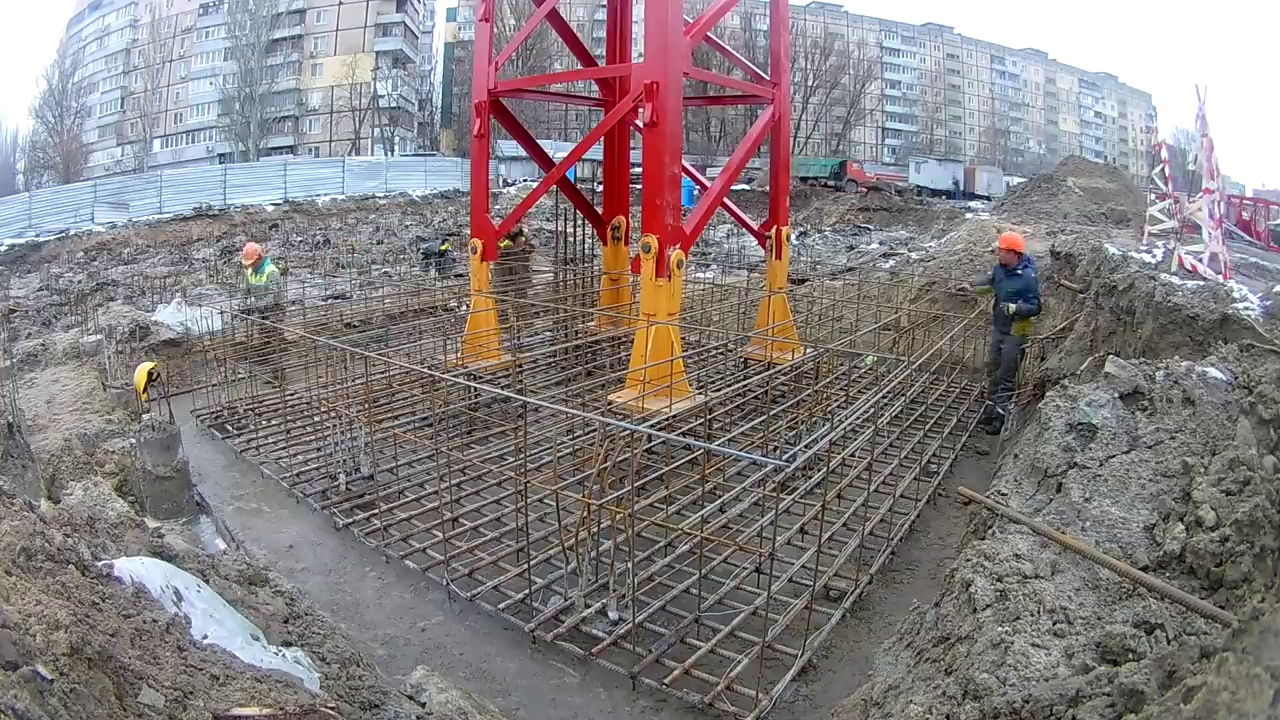helmet: (131, 360, 158, 404), (996, 233, 1026, 255), (240, 241, 262, 267)
helmet-on: (995, 228, 1027, 268), (239, 238, 267, 274)
person: (979, 229, 1045, 437), (494, 213, 535, 315), (236, 237, 286, 309)
